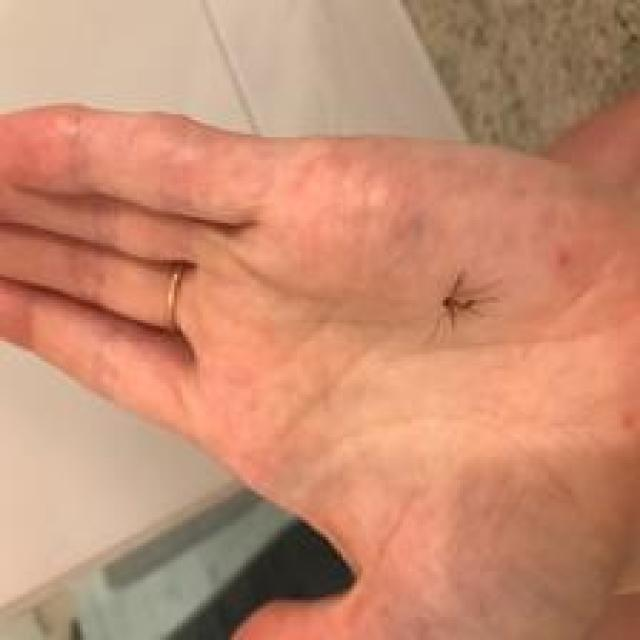Culex: (427, 269, 502, 340)
